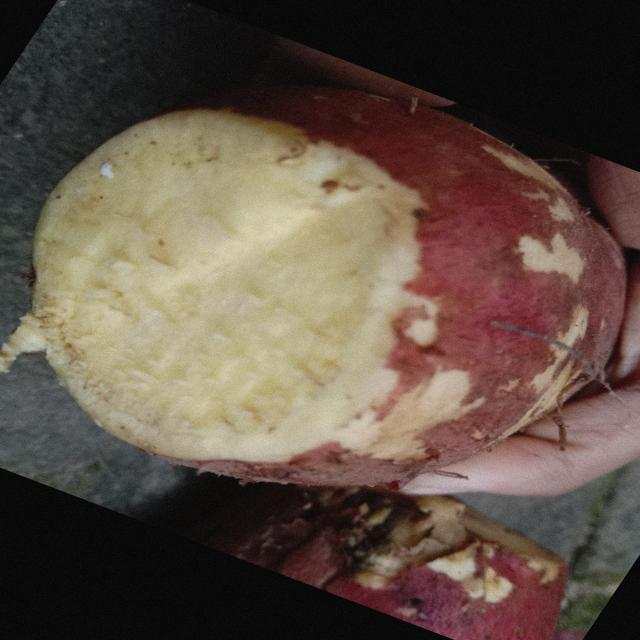Healthy Sweet Potato: (3, 109, 423, 462)
